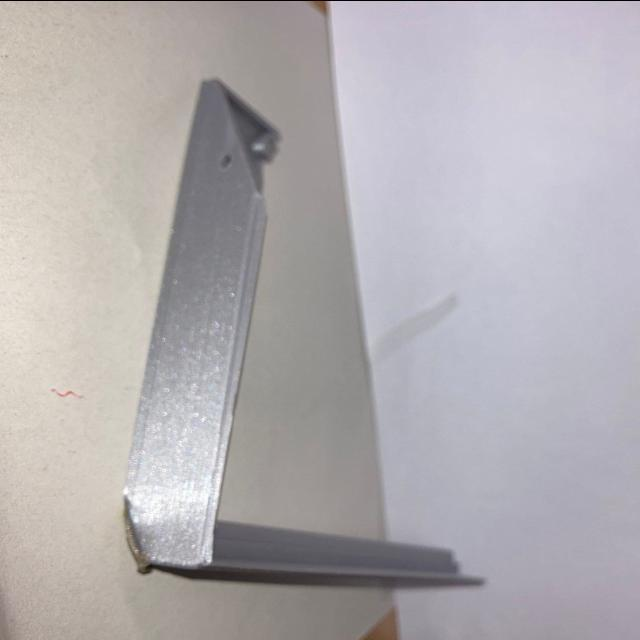Warping: (112, 490, 148, 570)
